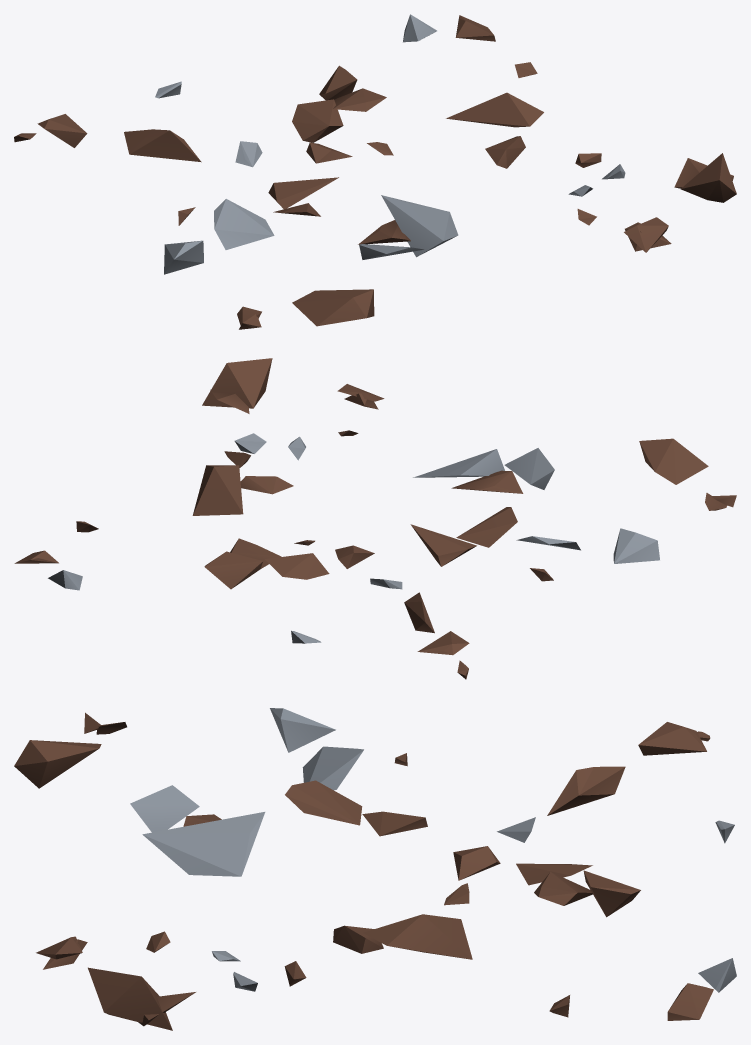
The model's file is pebbles.glb.
3 views of the same model, one above another, from view 1: azimuth 30°, elevation 25°; view 2: azimuth 150°, elevation 25°; view 3: azimuth 270°, elevation 25° (orthographic). The views are drawn at different scales.
Parts seen in each view (by area): view 1: Pebbles; view 2: Pebbles; view 3: Pebbles.
Part boxes in pixels (left/top/right/bottom): Pebbles: left=14, top=14, right=736, bottom=329; Pebbles: left=14, top=358, right=736, bottom=679; Pebbles: left=14, top=708, right=736, bottom=1030.
Size of the model in its own units: 1.85 by 0.1537 by 1.82.
